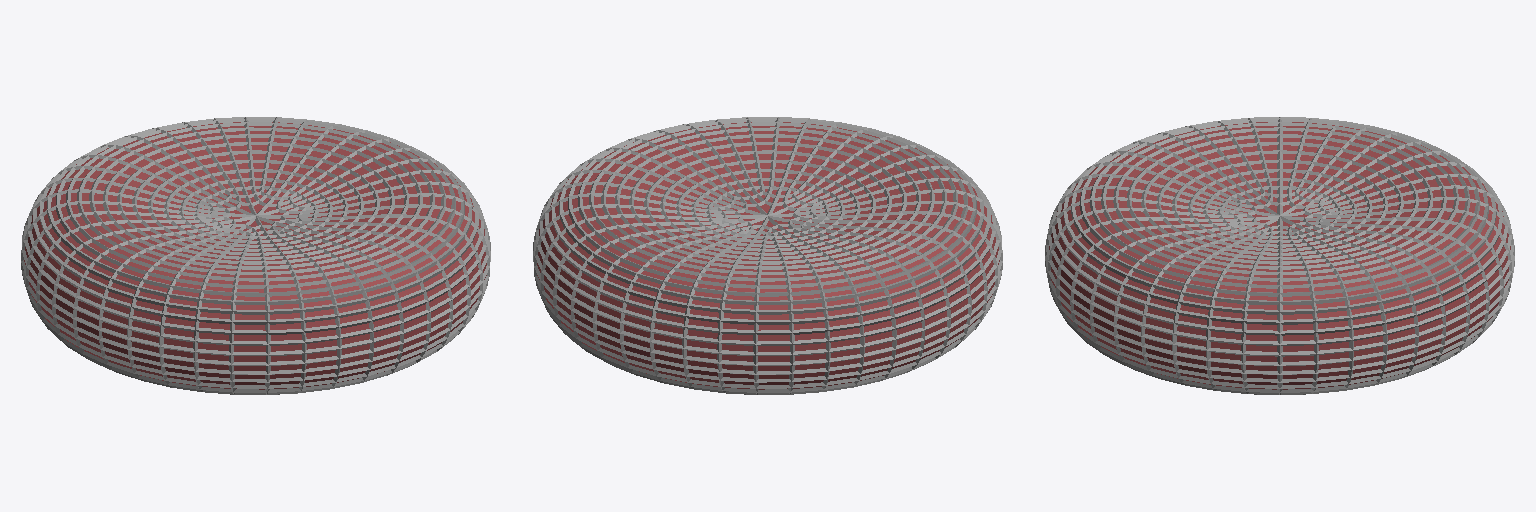
The model's file is cell.obj.
3 renders of one model, left to right at view 1: azimuth 30°, elevation 25°; view 2: azimuth 150°, elevation 25°; view 3: azimuth 270°, elevation 25°, orthographic.
Parts seen in each view (by area): view 1: Sphere.008, Sphere.003_Sphere.004; view 2: Sphere.008, Sphere.003_Sphere.004; view 3: Sphere.008, Sphere.003_Sphere.004.
Boxes of the visible parts, x1,y1,x2,y2 form: Sphere.008: [21, 117, 490, 394]; Sphere.003_Sphere.004: [24, 122, 486, 389]; Sphere.008: [533, 117, 1002, 394]; Sphere.003_Sphere.004: [537, 122, 999, 389]; Sphere.008: [1045, 117, 1514, 394]; Sphere.003_Sphere.004: [1049, 122, 1510, 389].
Bounding box in the file's own units: 1.87 × 0.5184 × 1.87.